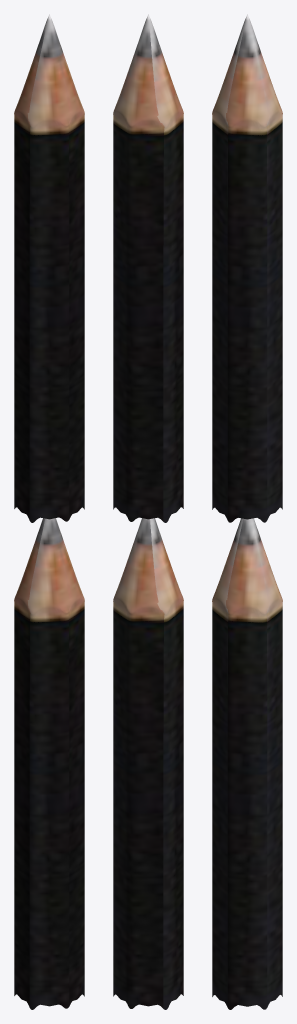
File: Pencel_RigitBody2.fbx
The picture shows the model from 3 angles, left to right: view 1: azimuth 90°, elevation 25°; view 2: azimuth 150°, elevation 25°; view 3: azimuth 270°, elevation 25°; orthographic projection.
Parts seen in each view (by area): view 1: Pencil_up; view 2: Pencil_up; view 3: Pencil_up.
Part boxes in pixels (left/top/right/bottom): Pencil_up: left=14, top=14, right=84, bottom=1009; Pencil_up: left=113, top=14, right=183, bottom=1009; Pencil_up: left=212, top=14, right=282, bottom=1009.
Bounding box in the file's own units: 1.3 × 21.82 × 1.42.
